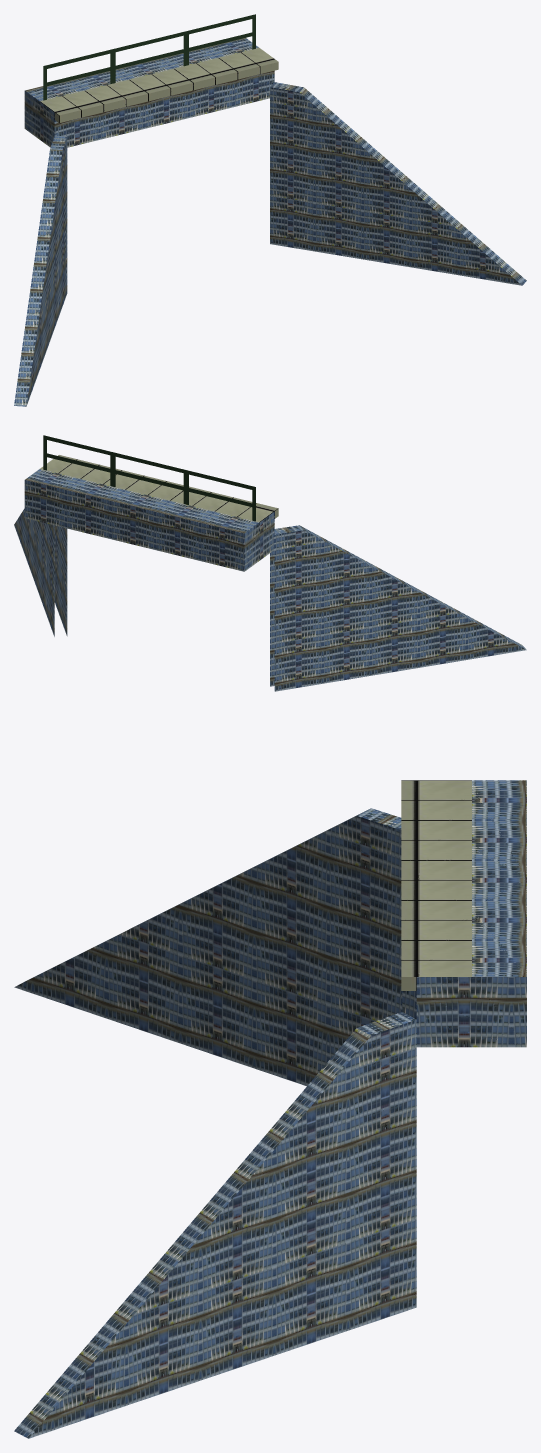
The model's file is Unterfuehrung_Fahrrad_lod1.dae.
The picture shows the model from 3 angles, top to bottom: view 1: azimuth 30°, elevation 25°; view 2: azimuth 150°, elevation 25°; view 3: azimuth 270°, elevation 25°; orthographic projection. The views are drawn at different scales.
Visible parts, largest first — view 1: SketchUp (×3); view 2: SketchUp (×3); view 3: SketchUp (×2).
Part boxes in pixels (x1,y1,x2,y2): SketchUp (×3): (14, 14, 526, 406); SketchUp (×3): (14, 435, 526, 691); SketchUp (×2): (14, 780, 526, 1438).
Bounding box in the file's own units: 551 × 260 × 220.
